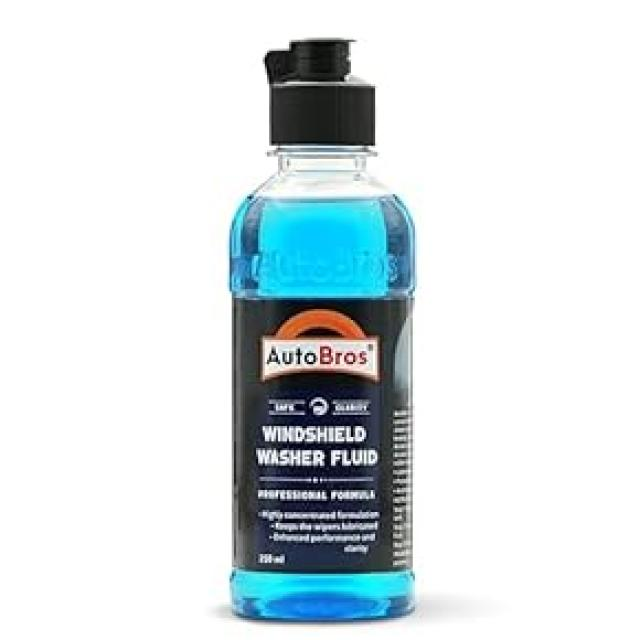winwinshield_washer: (222, 35, 421, 623)
